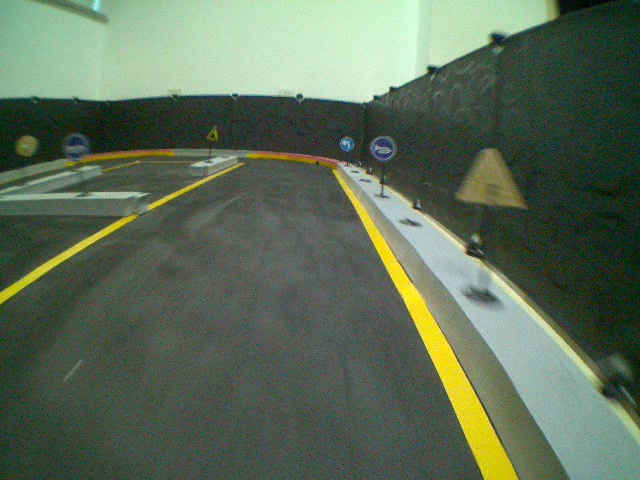fast: (205, 121, 221, 142)
horn: (369, 134, 396, 163), (62, 132, 89, 160)
turn: (339, 135, 355, 153)
